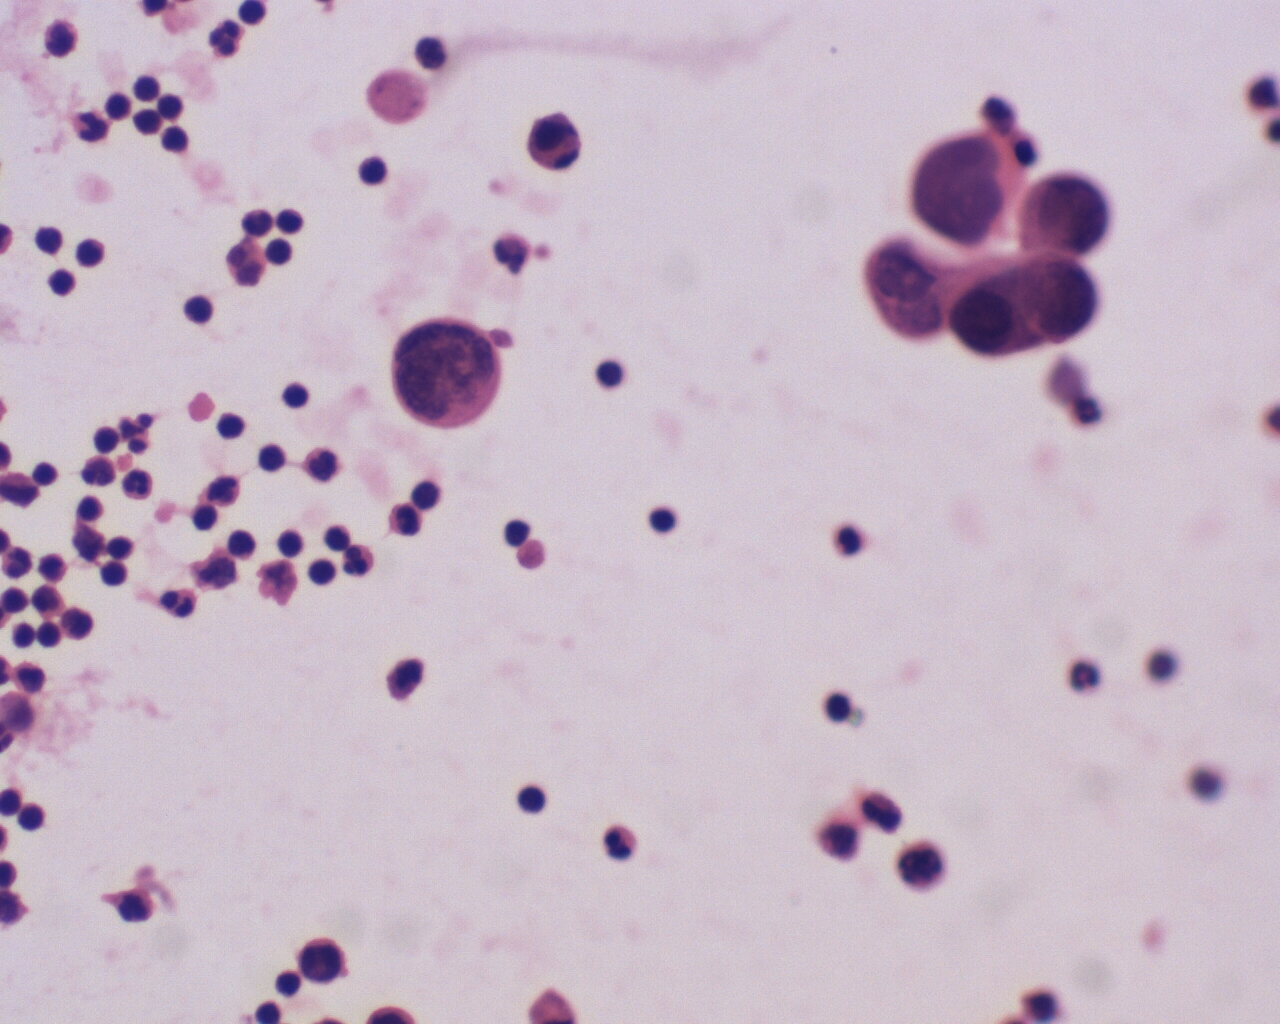ab: (389, 315, 504, 436), (908, 131, 1023, 251), (1014, 247, 1103, 348), (1019, 170, 1115, 262), (945, 274, 1035, 364)
lymph: (515, 779, 555, 822), (590, 353, 627, 397), (821, 688, 856, 728), (180, 288, 216, 326), (34, 223, 71, 259), (355, 148, 390, 184), (279, 376, 313, 412), (645, 501, 678, 535), (408, 476, 440, 512), (77, 233, 109, 270), (274, 523, 304, 560), (97, 558, 131, 590)
neutro: (205, 16, 254, 61), (603, 819, 647, 865), (157, 584, 201, 624), (339, 539, 376, 585), (71, 106, 110, 147), (206, 468, 243, 510), (120, 462, 158, 502), (1066, 658, 1103, 696)
